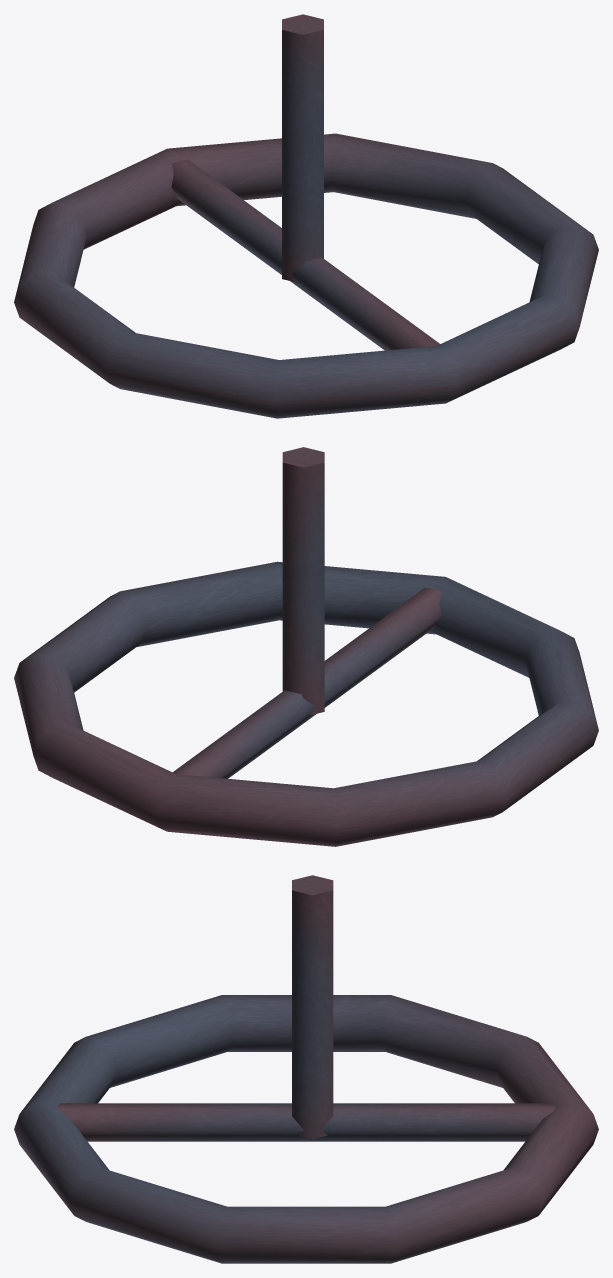
Rendered from kraasa1.FBX.
3 renders of one model, top to bottom at view 1: azimuth 30°, elevation 25°; view 2: azimuth 150°, elevation 25°; view 3: azimuth 270°, elevation 25°, orthographic. The views are drawn at different scales.
Parts seen in each view (by area): view 1: Torus001, Cylinder001, Cylinder002; view 2: Torus001, Cylinder001, Cylinder002; view 3: Torus001, Cylinder002, Cylinder001.
Boxes of the visible parts, x1,y1,x2,y2 form: Torus001: [14, 133, 598, 418]; Cylinder001: [282, 14, 323, 282]; Cylinder002: [171, 159, 439, 350]; Torus001: [14, 561, 598, 846]; Cylinder001: [282, 447, 324, 715]; Cylinder002: [172, 588, 441, 778]; Torus001: [14, 995, 598, 1263]; Cylinder002: [57, 1103, 555, 1141]; Cylinder001: [292, 875, 333, 1138].
Size of the model in its own units: 1.37 by 0.7279 by 1.44.
Materials: 1 (1 with a texture image).
